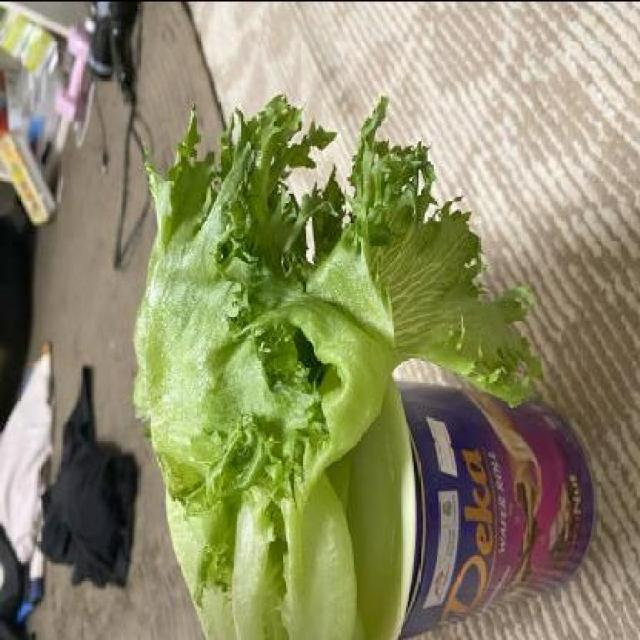Lettuce: (130, 87, 547, 640)
